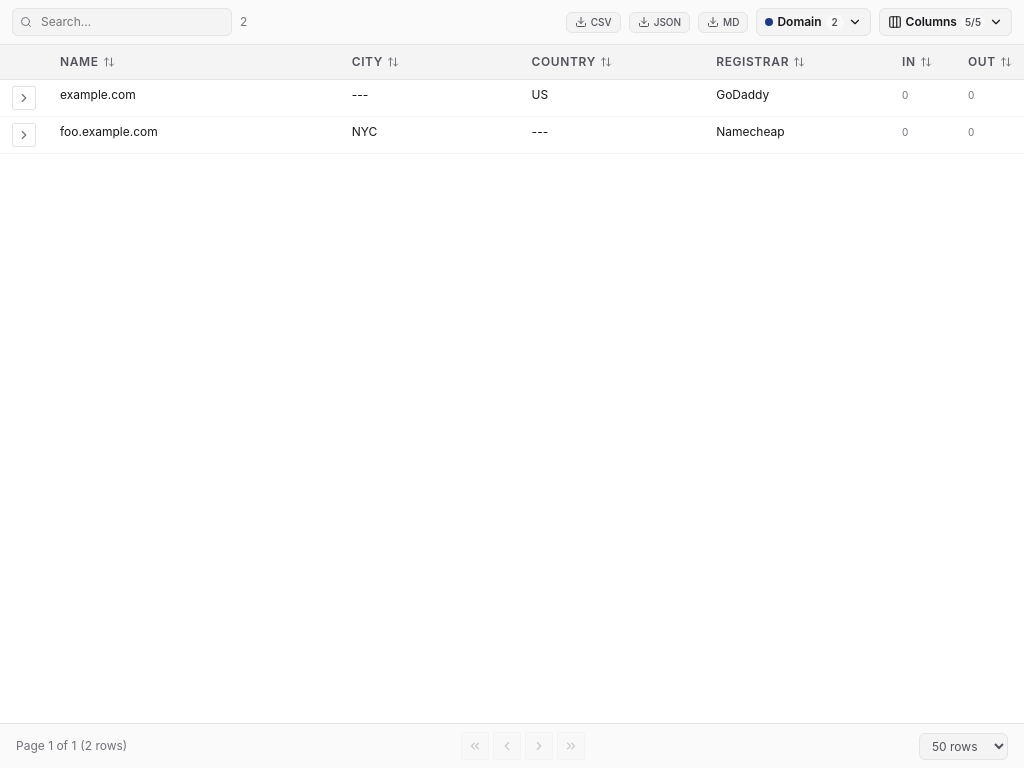
Test: NodeDetailsTable › switching node type updates dynamic columns
The width and height of the screenshot is (1024, 768).
Step 1. Click the button "Domain 2" → click(814, 22), box left=756, top=8, right=871, bottom=36
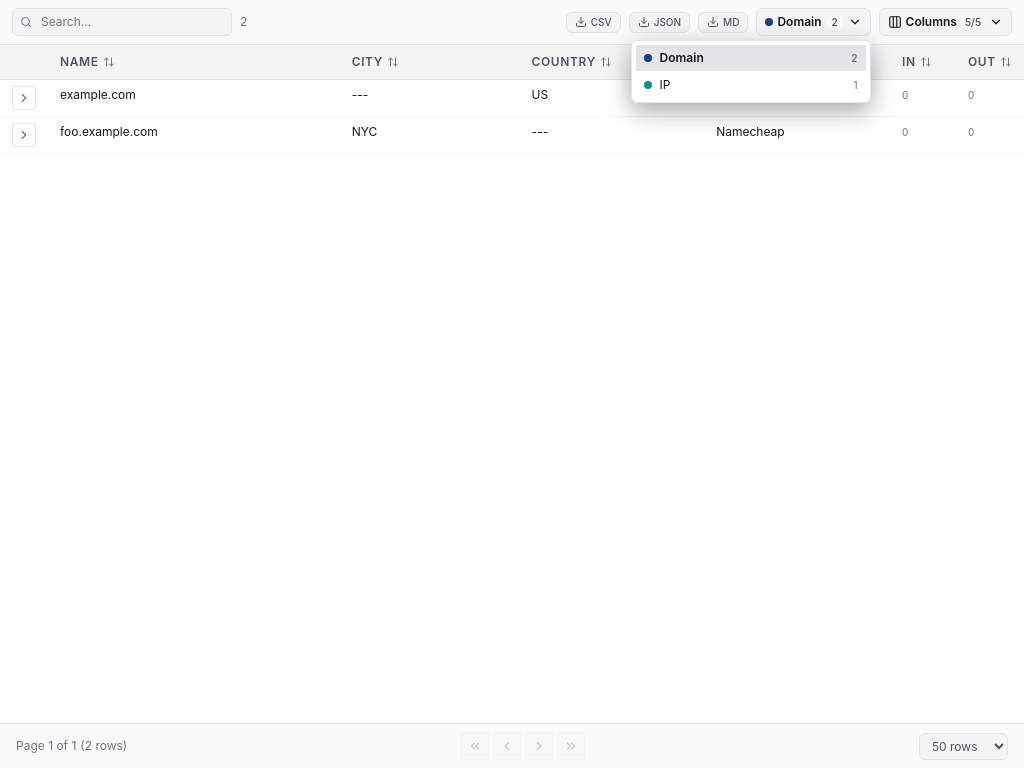
Now the text "IP" is shown
Step 2. Click the text "IP" → click(665, 84), box left=660, top=77, right=670, bottom=92
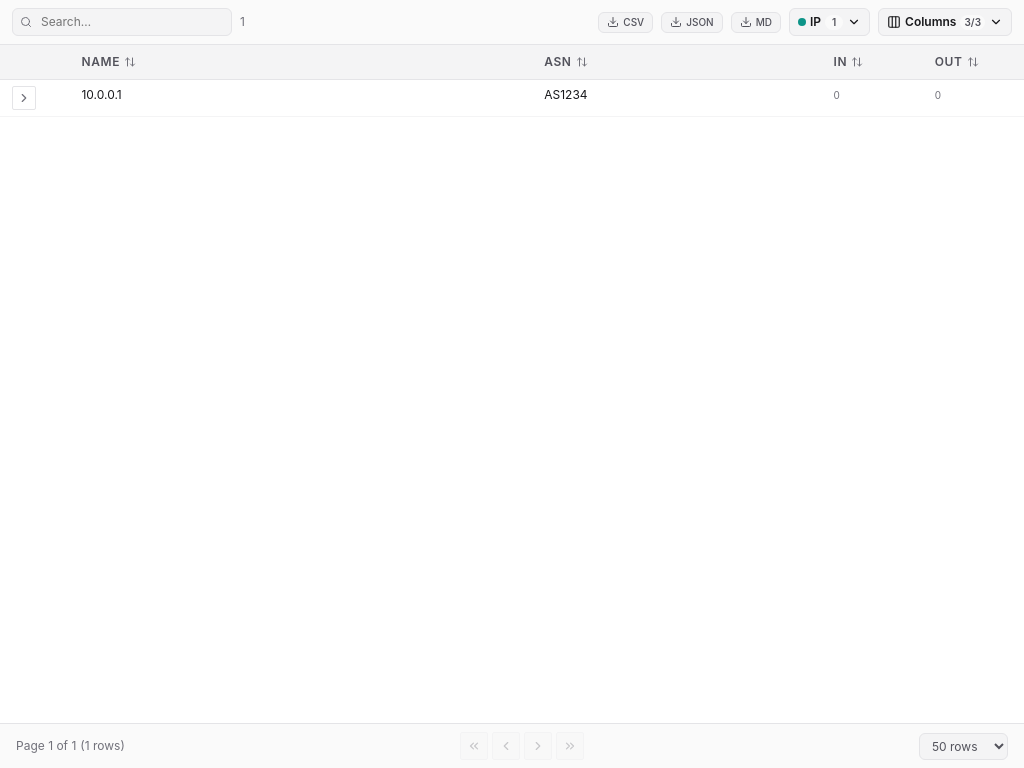
Now the row "Name asn In Out" is shown, box left=0, top=45, right=1023, bottom=80
Now the text "registrar" is gone
